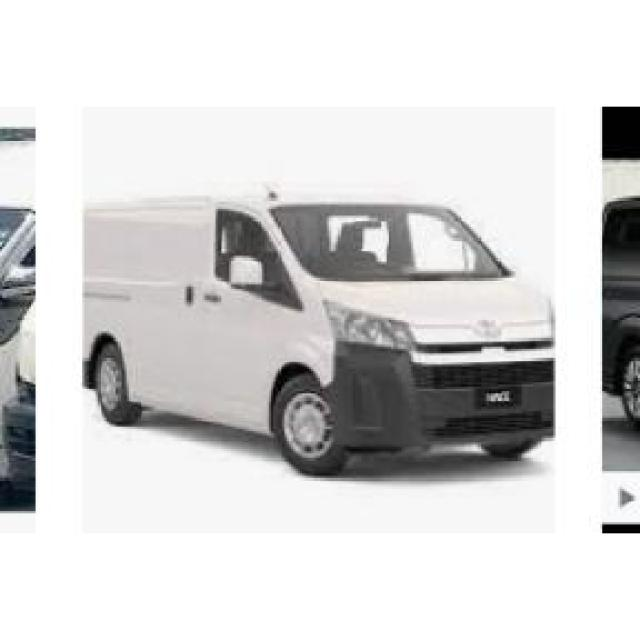Van: (80, 186, 560, 476)
